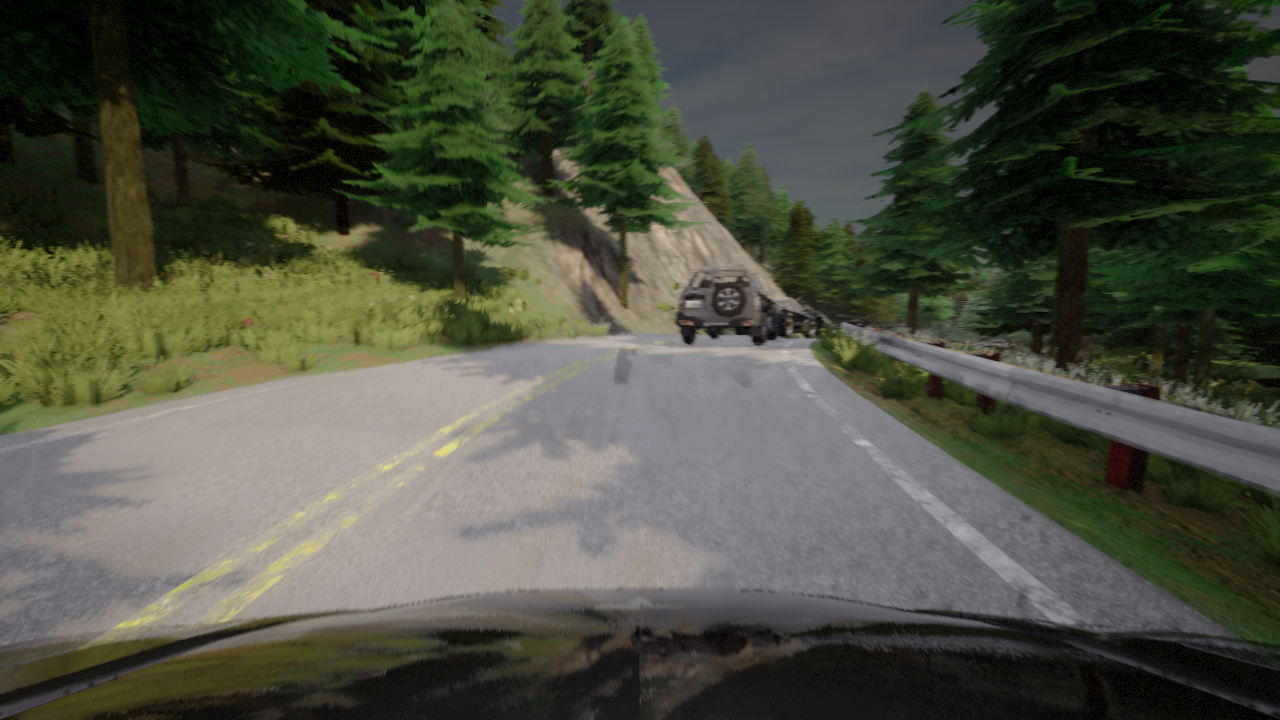cyclist: (0, 588, 1279, 719), (676, 265, 779, 346), (735, 298, 815, 337), (814, 316, 828, 338), (990, 339, 1014, 347), (746, 331, 781, 336), (978, 338, 988, 344)
